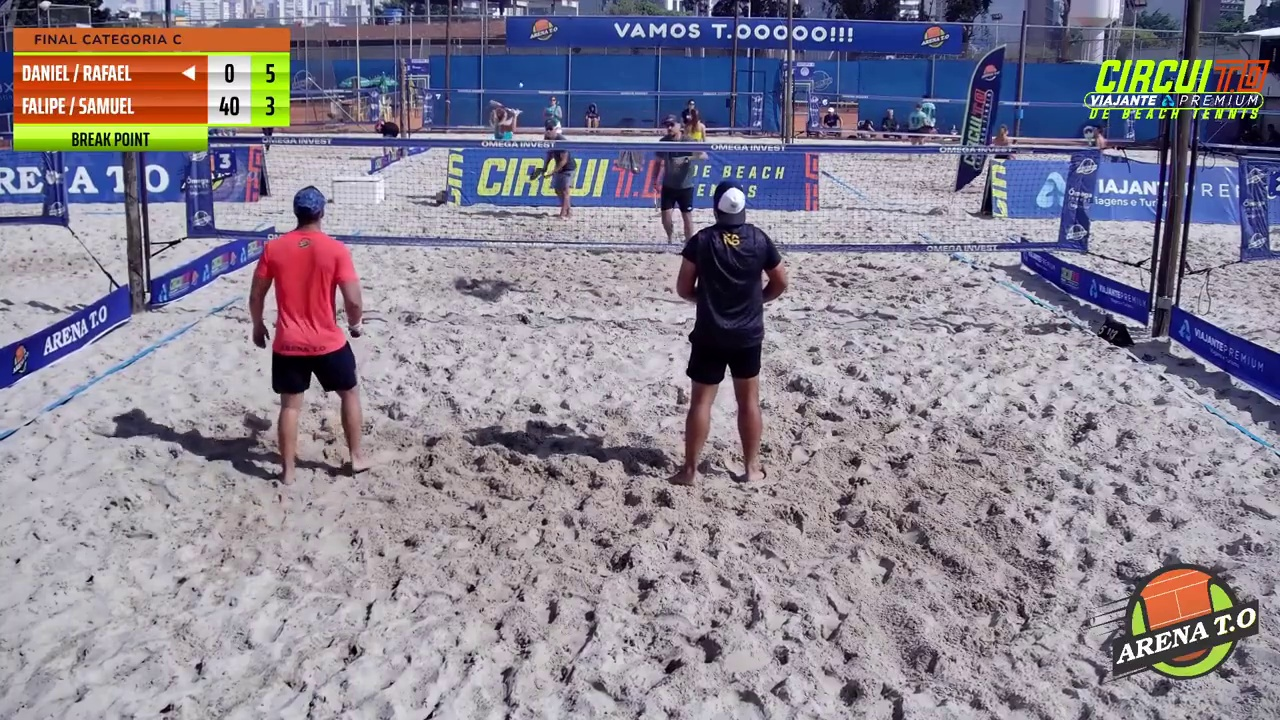ball: (0, 6, 308, 538)
